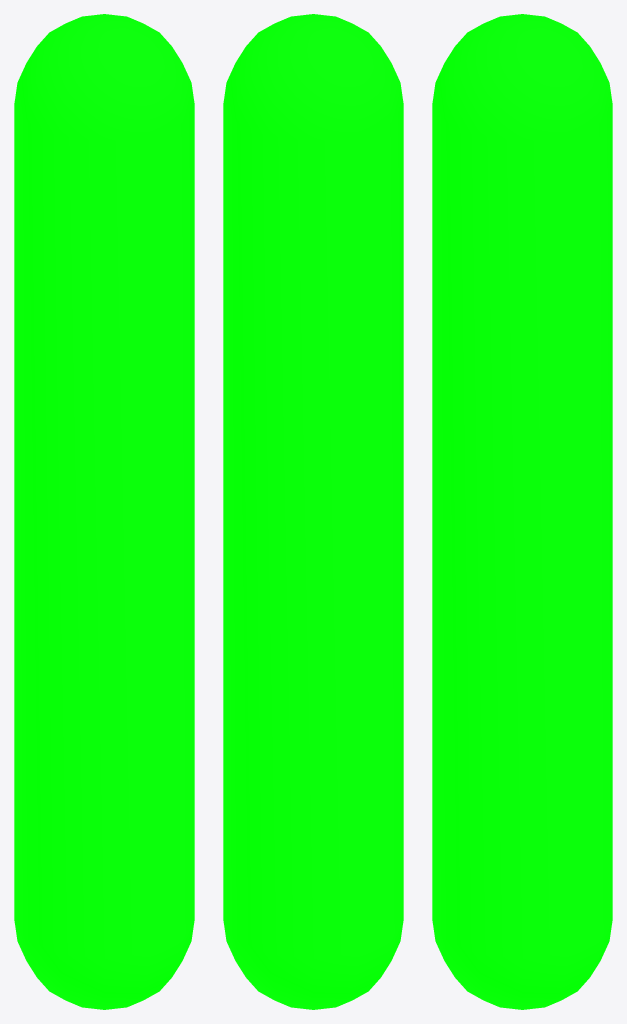
The model's file is laser_bolt_assimped.DAE.
3 renders of one model, left to right at view 1: azimuth 30°, elevation 25°; view 2: azimuth 150°, elevation 25°; view 3: azimuth 270°, elevation 25°, orthographic.
Parts seen in each view (by area): view 1: Capsule001; view 2: Capsule001; view 3: Capsule001.
Boxes of the visible parts, x1,y1,x2,y2 form: Capsule001: [14, 14, 194, 1009]; Capsule001: [223, 14, 403, 1009]; Capsule001: [432, 14, 612, 1009].
Size of the model in its own units: 0.0508 by 0.3048 by 0.0508.
